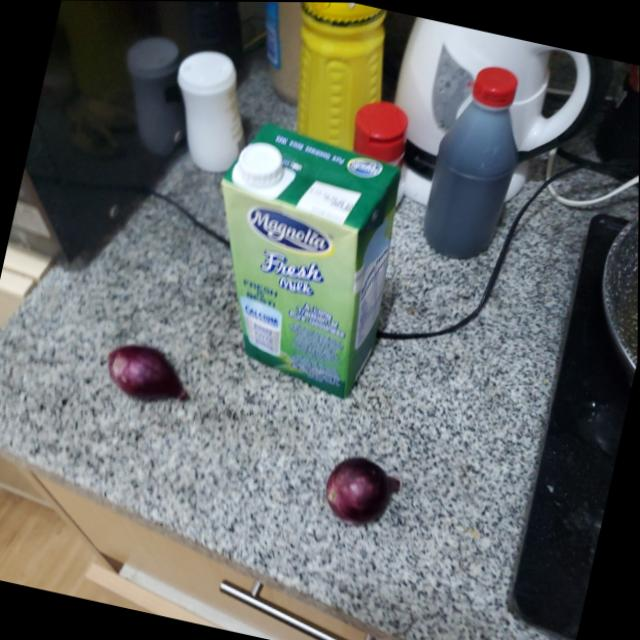milk: (182, 118, 423, 402)
onion: (315, 448, 409, 531), (99, 336, 198, 410)
